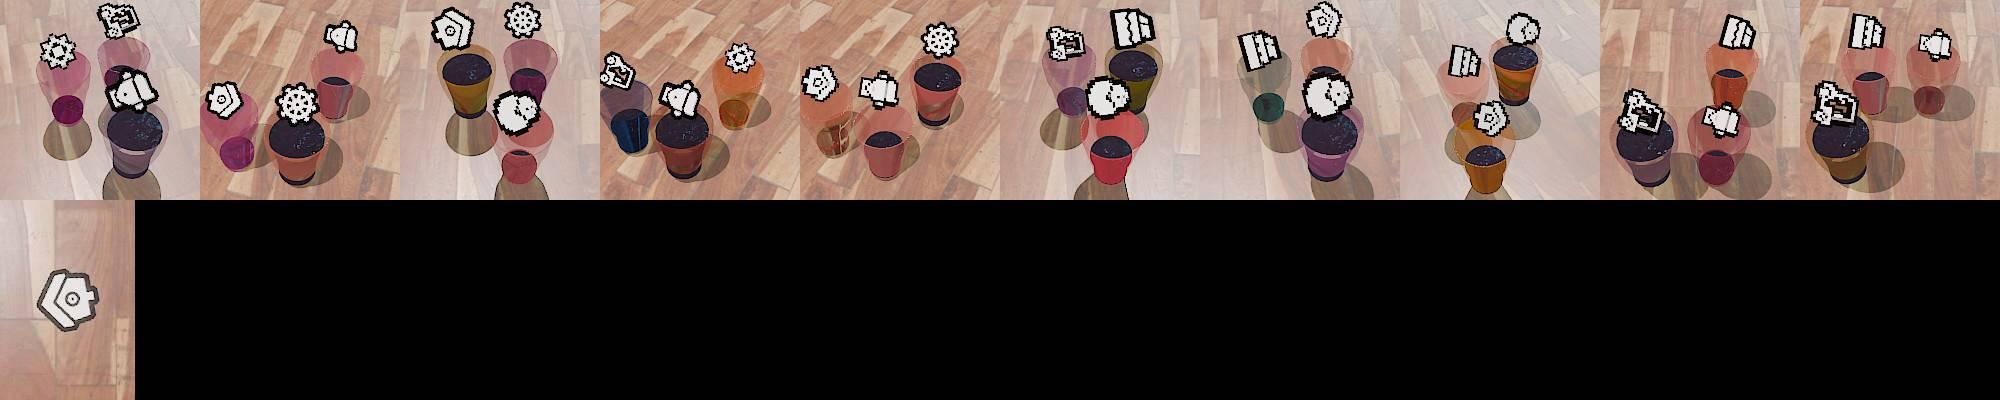icon: (32, 264, 110, 335), (1301, 71, 1353, 120), (107, 68, 161, 113), (1617, 87, 1666, 136), (491, 90, 543, 136), (1811, 79, 1858, 127), (1084, 75, 1133, 120), (430, 6, 476, 52), (274, 80, 320, 125), (1236, 29, 1281, 74), (1108, 8, 1156, 48), (657, 78, 703, 118), (856, 69, 901, 110), (204, 80, 246, 122), (97, 3, 142, 41), (1471, 97, 1511, 138), (1304, 1, 1344, 41), (1045, 24, 1085, 62), (920, 22, 959, 60), (503, 1, 542, 39), (598, 51, 635, 92), (1847, 13, 1885, 51), (38, 32, 77, 70), (1702, 101, 1741, 138), (1718, 14, 1756, 51), (800, 65, 839, 101), (323, 18, 360, 55), (1505, 11, 1541, 47), (1916, 28, 1955, 60), (1448, 43, 1482, 79), (723, 42, 756, 74)
